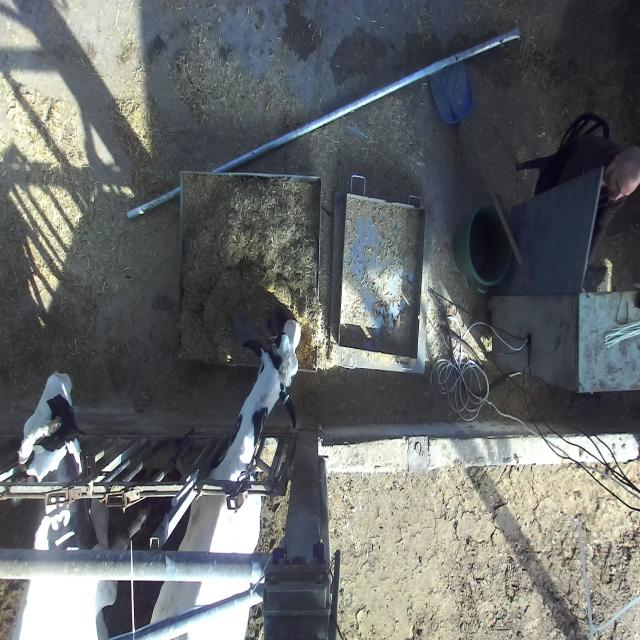cow: (7, 368, 86, 481), (240, 314, 301, 436)
